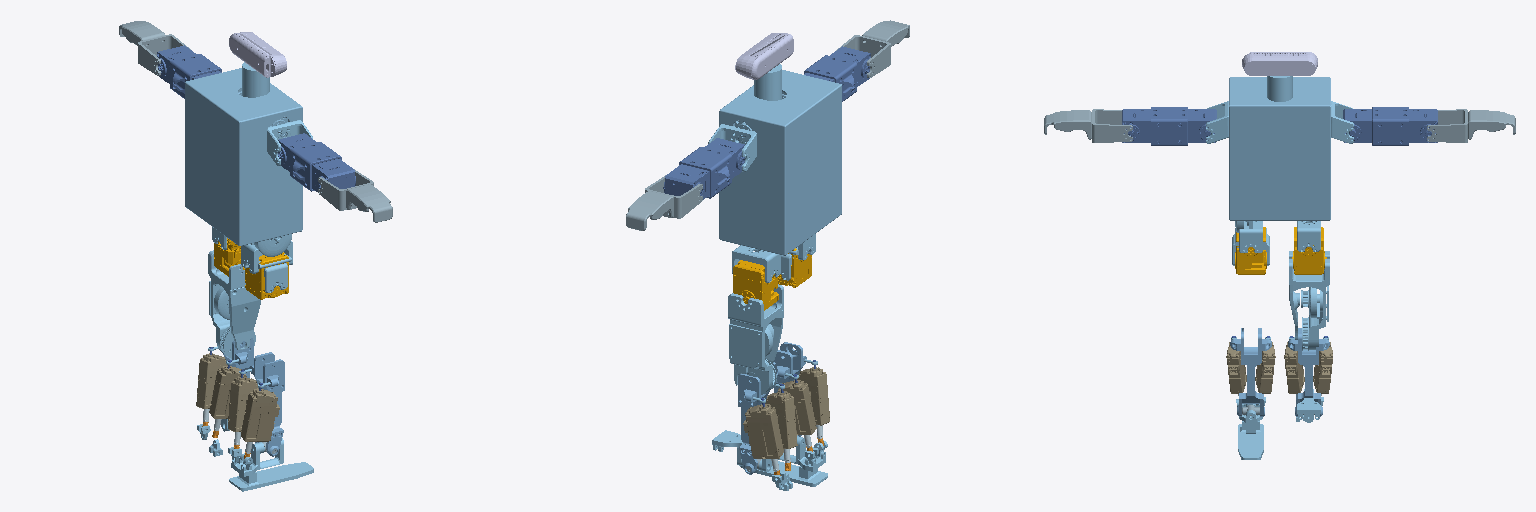
--- Facts derived from the render (not from the file) ---
3 views of the same robot in one strip: view 1: azimuth 30°, elevation 25°; view 2: azimuth 150°, elevation 25°; view 3: azimuth 270°, elevation 25° (orthographic).
Robot: toddlerbot — 45 links, 44 joints (18 revolute, 26 fixed); root link body_link; default pose: all joints at 0.
Visible links, largest first — view 1: body_link, left_hip_pitch_link, sho_roll_link_2, ank_roll_link_2, elb_link_2, sho_roll_link, elb_link, head_link, 12lf_4, right_calf_link, right_hip_pitch_link, 12lf (+8 smaller); view 2: body_link, left_hip_pitch_link, sho_roll_link, elb_link, sho_roll_link_2, elb_link_2, head_link, 12lf, hip_roll_link, ank_roll_link_2, left_calf_link, 12lf_4 (+8 smaller); view 3: body_link, sho_roll_link_2, sho_roll_link, left_hip_pitch_link, elb_link, elb_link_2, head_link, right_calf_link, ank_roll_link_2, left_calf_link, hip_roll_link, hip_roll_link_2 (+9 smaller).
Link boxes in pixels (left/top/right/bottom): body_link: left=185, top=68, right=302, bottom=245; left_hip_pitch_link: left=208, top=250, right=260, bottom=358; sho_roll_link_2: left=278, top=133, right=355, bottom=191; ank_roll_link_2: left=229, top=438, right=313, bottom=491; elb_link_2: left=318, top=169, right=392, bottom=222; sho_roll_link: left=157, top=45, right=221, bottom=98; elb_link: left=119, top=21, right=190, bottom=75; head_link: left=229, top=32, right=286, bottom=77; 12lf_4: left=241, top=388, right=279, bottom=441; right_calf_link: left=250, top=352, right=284, bottom=456; right_hip_pitch_link: left=251, top=234, right=291, bottom=292; 12lf: left=196, top=353, right=227, bottom=408; body_link: left=719, top=70, right=841, bottom=255; left_hip_pitch_link: left=728, top=284, right=783, bottom=394; sho_roll_link: left=663, top=138, right=744, bottom=199; elb_link: left=626, top=175, right=702, bottom=230; sho_roll_link_2: left=804, top=46, right=870, bottom=101; elb_link_2: left=836, top=20, right=909, bottom=77; head_link: left=735, top=33, right=793, bottom=79; 12lf: left=743, top=404, right=783, bottom=458; hip_roll_link: left=733, top=260, right=778, bottom=310; ank_roll_link_2: left=740, top=436, right=827, bottom=486; left_calf_link: left=738, top=374, right=769, bottom=474; 12lf_4: left=797, top=367, right=829, bottom=425; body_link: left=1229, top=77, right=1331, bottom=220; sho_roll_link_2: left=1122, top=107, right=1216, bottom=145; sho_roll_link: left=1343, top=107, right=1437, bottom=145; left_hip_pitch_link: left=1289, top=251, right=1329, bottom=350; elb_link: left=1427, top=109, right=1515, bottom=142; elb_link_2: left=1044, top=109, right=1132, bottom=142; head_link: left=1242, top=52, right=1317, bottom=75; right_calf_link: left=1230, top=328, right=1271, bottom=416; ank_roll_link_2: left=1238, top=404, right=1263, bottom=459; left_calf_link: left=1288, top=328, right=1329, bottom=416; hip_roll_link: left=1292, top=227, right=1326, bottom=274; hip_roll_link_2: left=1235, top=227, right=1266, bottom=274.
Size in the robot's own frame: 0.1039 by 0.554 by 0.5058 metres.
45 mesh visuals loaded from 45 distinct referenced files (45 binary STL).

The robot description file, URDF, robot "toddlerbot":
<robot name="toddlerbot">
  <mujoco>
    <compiler strippath="false" balanceinertia="true" discardvisual="false" />
  </mujoco>
  <link name="body_link">
    <visual>
      <origin xyz="0 0 0" rpy="0 -0 0" />
      <geometry>
        <mesh filename="../assemblies/4R_body/meshes/body_link_visual.stl" />
      </geometry>
      <material name="body_link_material">
        <color rgba="0.59240232552230254193 0.77493742445477598046 0.89675162167089728094 1.0" />
      </material>
    </visual>
    <collision>
      <origin xyz="0 0 0" rpy="0 -0 0" />
      <geometry>
        <mesh filename="collisions/body_link_collision.stl" />
      </geometry>
    </collision>
    <inertial>
      <origin xyz="-0.011392539113329219411 1.8329806415983037757e-07 0.37864501400110933682" rpy="0 0 0" />
      <mass value="1.3010345634555100514" />
      <inertia ixx="0.004762472517127859864" ixy="1.2254736467186099066e-09" ixz="2.5710312085007240265e-05" iyy="0.0036676689183223290004" iyz="7.2555792614915947183e-09" izz="0.0032052577163904517193" />
    </inertial>
  </link>

  <link name="neck_link">
    <visual>
      <origin xyz="0 0 0" rpy="0 -0 0" />
      <geometry>
        <mesh filename="../assemblies/4R_body/meshes/neck_link_visual.stl" />
      </geometry>
      <material name="neck_link_material">
        <color rgba="0.61568627450980395466 0.81176470588235294379 0.92941176470588238168 1.0" />
      </material>
    </visual>
    <collision>
      <origin xyz="0 0 0" rpy="0 -0 0" />
      <geometry>
        <mesh filename="collisions/neck_link_collision.stl" />
      </geometry>
    </collision>
    <inertial>
      <origin xyz="3.067903593042405049e-19 -5.1123361372111250322e-20 -0.020000000000000000416" rpy="0 0 0" />
      <mass value="0.018378317023500286703" />
      <inertia ixx="3.4842226023719301187e-06" ixy="2.6492046803872183431e-38" ixz="-4.2946359314041097936e-38" iyy="3.4842226023719301187e-06" iyz="-3.2653968785718786279e-70" izz="2.06756066514378241e-06" />
    </inertial>
  </link>

  <link name="head_link">
    <visual>
      <origin xyz="0 0 0" rpy="0 -0 0" />
      <geometry>
        <mesh filename="../assemblies/4R_body/meshes/head_link_visual.stl" />
      </geometry>
      <material name="head_link_material">
        <color rgba="0.79607843137254896693 0.82352941176470584317 0.93725490196078442562 1.0" />
      </material>
    </visual>
    <collision>
      <origin xyz="0 0 0" rpy="0 -0 0" />
      <geometry>
        <mesh filename="collisions/head_link_collision.stl" />
      </geometry>
    </collision>
    <inertial>
      <origin xyz="0.0011121374382810690108 0.0023003089133866896736 -0.012472157860955830275" rpy="0 0 0" />
      <mass value="0.075015538754886992856" />
      <inertia ixx="6.8018019107715040579e-06" ixy="6.7244456377383520563e-07" ixz="2.3059386910262827346e-09" iyy="4.5222250439264427752e-05" iyz="-1.2119065455131516884e-08" izz="4.5708811148256761484e-05" />
    </inertial>
  </link>

  <joint name="head" type="fixed">
    <origin xyz="0 -6.505213034913026604e-19 -0.039999999999999980016" rpy="-3.6199375412562401434e-16 -2.4218742848029192401e-16 -5.5511151231257722251e-17" />
    <parent link="neck_link" />
    <child link="head_link" />
    <axis xyz="0 0 1" />
    <limit effort="1" velocity="20" />
    <joint_properties friction="0.0" />
  </joint>

  <joint name="neck" type="fixed">
    <origin xyz="-0.00089999999999998414602 -4.4507968385753129991e-18 0.44079999999999996962" rpy="-3.141592653589793116 8.5053965662326763145e-17 1.57079632679489678" />
    <parent link="body_link" />
    <child link="neck_link" />
    <axis xyz="0 0 1" />
    <limit effort="1" velocity="20" />
    <joint_properties friction="0.0" />
  </joint>

  <joint name="left_hip_yaw" type="revolute">
    <origin xyz="-0.006400000000000070563 0.033999999999999967748 0.28550000000000003153" rpy="-1.0062408617649953783e-14 -1.7373496713084857328e-15 -1.0702550091647256269e-13" />
    <parent link="body_link" />
    <child link="hip_yaw_link" />
    <axis xyz="0 0 1" />
    <limit effort="1" velocity="20" lower="-1.570796326794896558" upper="1.570796326794896558" />
    <joint_properties friction="0.0" />
  </joint>

  <joint name="right_hip_yaw" type="revolute">
    <origin xyz="-0.0064000000000002613826 -0.033999999999999974687 0.28549999999999997602" rpy="-2.4175737836120826254e-16 2.1811947592303793928e-16 -1.3443908046660001512e-14" />
    <parent link="body_link" />
    <child link="hip_yaw_link_2" />
    <axis xyz="0 0 1" />
    <limit effort="1" velocity="20" lower="-1.570796326794896558" upper="1.570796326794896558" />
    <joint_properties friction="0.0" />
  </joint>

  <joint name="left_sho_pitch" type="revolute">
    <origin xyz="-0.00090000000000018190449 0.058000000000000113964 0.42079999999999984084" rpy="-1.570796326794871911 3.5360603334311235812e-14 -3.1415926535897371608" />
    <parent link="body_link" />
    <child link="sho_pitch_link" />
    <axis xyz="0 0 1" />
    <limit effort="1" velocity="20" lower="-1.570796326794896558" upper="1.570796326794896558" />
    <joint_properties friction="0.0" />
  </joint>

  <joint name="right_sho_pitch" type="revolute">
    <origin xyz="-0.00090000000000000062589 -0.057999999999999982125 0.42079999999999995186" rpy="-1.5707963267948972241 1.3877787807856806753e-15 6.3545304591998415249e-17" />
    <parent link="body_link" />
    <child link="sho_pitch_link_2" />
    <axis xyz="0 0 1" />
    <limit effort="1" velocity="20" lower="-1.570796326794896558" upper="1.570796326794896558" />
    <joint_properties friction="0.0" />
  </joint>


  <link name="hip_yaw_link">
    <visual>
      <origin xyz="0 0 0" rpy="0 -0 0" />
      <geometry>
        <mesh filename="../assemblies/left_3R+RH5_leg/meshes/left_hip_yaw_link_visual.stl" />
      </geometry>
      <material name="hip_yaw_link_material">
        <color rgba="0.61568627450980395466 0.81176470588235294379 0.9294117647058824927 1.0" />
      </material>
    </visual>
    <inertial>
      <origin xyz="1.0722510336680159674e-18 -3.2283346677807587375e-19 -0.0098390489054830127663" rpy="0 0 0" />
      <mass value="0.0090258837370979193293" />
      <inertia ixx="1.3230458239086465149e-06" ixy="-3.359224963794823924e-24" ixz="-1.1251788840973432436e-52" iyy="3.8408510960331439664e-06" iyz="2.3044956050358340648e-34" izz="3.8721396285793924761e-06" />
    </inertial>
  </link>

  <link name="hip_roll_link">
    <visual>
      <origin xyz="0 0 0" rpy="0 -0 0" />
      <geometry>
        <mesh filename="../assemblies/left_3R+RH5_leg/meshes/left_hip_roll_link_visual.stl" />
      </geometry>
      <material name="hip_roll_link_material">
        <color rgba="0.95018735644455865064 0.7067892720042843191 0.061612079402596720001 1.0" />
      </material>
    </visual>
    <collision>
      <origin xyz="0 0 0" rpy="0 -0 0" />
      <geometry>
        <mesh filename="collisions/left_hip_roll_link_collision.stl" />
      </geometry>
    </collision>
    <inertial>
      <origin xyz="-0.012000151133961392894 -0.0004958883138495338112 -0.018504019244504732455" rpy="0 0 0" />
      <mass value="0.098012391483528651936" />
      <inertia ixx="2.0221748766306466634e-05" ixy="-4.1552068243118489132e-08" ixz="-4.1225592188160438566e-08" iyy="2.7358099958307196734e-05" iyz="-5.0935731752381026805e-07" izz="2.7358069524723232986e-05" />
    </inertial>
  </link>

  <link name="left_hip_pitch_link">
    <visual>
      <origin xyz="0 0 0" rpy="0 -0 0" />
      <geometry>
        <mesh filename="../assemblies/left_3R+RH5_leg/meshes/left_hip_pitch_link_visual.stl" />
      </geometry>
      <material name="left_hip_pitch_link_material">
        <color rgba="0.61653630588246999267 0.80730204117585702139 0.92176148235188937186 1.0" />
      </material>
    </visual>
    <collision>
      <origin xyz="0 0 0" rpy="0 -0 0" />
      <geometry>
        <mesh filename="collisions/left_hip_pitch_link_collision.stl" />
      </geometry>
    </collision>
    <inertial>
      <origin xyz="-0.00021632240618358212353 0.052986695633820017626 0.014788126099014513998" rpy="0 0 0" />
      <mass value="0.094084588454108844524" />
      <inertia ixx="6.3099190805816188395e-05" ixy="4.2254461504174256037e-07" ixz="-1.5223568275358419485e-07" iyy="2.1754782765193058833e-05" iyz="-1.4708367336520511655e-06" izz="6.2817482611037645619e-05" />
    </inertial>
  </link>

  <link name="left_calf_link">
    <visual>
      <origin xyz="0 0 0" rpy="0 -0 0" />
      <geometry>
        <mesh filename="../assemblies/left_3R+RH5_leg/meshes/left_calf_link_visual.stl" />
      </geometry>
      <material name="left_calf_link_material">
        <color rgba="0.55397243078540503447 0.73161358475427695769 0.87715705664081478066 1.0" />
      </material>
    </visual>
    <collision>
      <origin xyz="0 0 0" rpy="0 -0 0" />
      <geometry>
        <mesh filename="collisions/left_calf_link_collision.stl" />
      </geometry>
    </collision>
    <inertial>
      <origin xyz="-0.0039136163069529794969 -0.043640010796484503264 0.0081849279519870133531" rpy="0 0 0" />
      <mass value="0.016290616864051549878" />
      <inertia ixx="1.5543943584208743725e-05" ixy="-2.1605519114066121883e-07" ixz="7.0470291476150020838e-09" iyy="1.9364407917964761494e-06" iyz="1.9633933099789637219e-08" izz="1.4807197003527088815e-05" />
    </inertial>
  </link>

  <link name="ank_pitch_link">
    <visual>
      <origin xyz="0 0 0" rpy="0 -0 0" />
      <geometry>
        <mesh filename="../assemblies/left_3R+RH5_leg/meshes/left_ank_pitch_link_visual.stl" />
      </geometry>
      <material name="ank_pitch_link_material">
        <color rgba="0.63189161126160264814 0.7266866879354088038 0.78356373393969258601 1.0" />
      </material>
    </visual>
    <inertial>
      <origin xyz="4.0269685077374882913e-08 0.00059528282566739029041 -0.014599922383890481456" rpy="0 0 0" />
      <mass value="0.0042238381753791614387" />
      <inertia ixx="4.3705254067385321152e-07" ixy="1.6834346764733790142e-13" ixz="1.6428822479797586242e-12" iyy="3.9782741364647126382e-07" iyz="2.0919252891793530041e-14" izz="8.8858574534548866036e-08" />
    </inertial>
  </link>

  <link name="ank_roll_link">
    <visual>
      <origin xyz="0 0 0" rpy="0 -0 0" />
      <geometry>
        <mesh filename="../assemblies/left_3R+RH5_leg/meshes/left_ank_roll_link_visual.stl" />
      </geometry>
      <material name="ank_roll_link_material">
        <color rgba="0.61568627450980395466 0.81176470588235294379 0.92941176470588238168 1.0" />
      </material>
    </visual>
    <collision>
      <origin xyz="0 0 0" rpy="0 -0 0" />
      <geometry>
        <mesh filename="collisions/left_ank_roll_link_collision.stl" />
      </geometry>
    </collision>
    <inertial>
      <origin xyz="-6.3661537447933322514e-10 0.027240102316353712736 -0.0056169852551464618043" rpy="0 0 0" />
      <mass value="0.013844478784760248444" />
      <inertia ixx="1.0150902309234937601e-05" ixy="6.860330269947860182e-14" ixz="-3.2605547316532086247e-13" iyy="8.66361166634314672e-06" iyz="-7.8151778926544964308e-07" izz="2.8991570356470419231e-06" />
    </inertial>
  </link>

  <link name="ank_rr_link">
    <visual>
      <origin xyz="0 0 0" rpy="0 -0 0" />
      <geometry>
        <mesh filename="../assemblies/left_3R+RH5_leg/meshes/left_ank_rr_link_visual.stl" />
      </geometry>
      <material name="ank_rr_link_material">
        <color rgba="0.61568627450980395466 0.81176470588235294379 0.92941176470588238168 1.0" />
      </material>
    </visual>
    <inertial>
      <origin xyz="3.4593503690053728679e-05 -0.0062999445222071577544 2.2843393600707675866e-19" rpy="0 0 0" />
      <mass value="0.00044289790445047673732" />
      <inertia ixx="9.089475500483527331e-09" ixy="5.6689994077039792641e-11" ixz="-1.0879024115044971254e-14" iyy="8.3785129146959922129e-09" iyz="1.6391214081112533046e-31" izz="1.3107013728801491474e-08" />
    </inertial>
  </link>

  <link name="12lf_rod_end">
    <visual>
      <origin xyz="0 0 0" rpy="0 -0 0" />
      <geometry>
        <mesh filename="../assemblies/left_3R+RH5_leg/meshes/left_12lf_rod_end_visual.stl" />
      </geometry>
      <material name="12lf_rod_end_material">
        <color rgba="0.92771758928836545177 0.61049283053223013518 0.21847658490585164515 1.0" />
      </material>
    </visual>
    <inertial>
      <origin xyz="-4.4735207312314432896e-11 -0.00384221859382460635 6.4384187209444622633e-06" rpy="0 0 0" />
      <mass value="0.00085420491177815895123" />
      <inertia ixx="1.1840985264406803937e-08" ixy="2.0225978439573764585e-16" ixz="-9.2606419922371643422e-16" iyy="3.3549621576797599008e-09" iyz="7.4535631381818761116e-12" izz="1.2703522254420021284e-08" />
    </inertial>
  </link>

  <joint name="left_ank_R21" type="fixed">
    <origin xyz="0 -0.010000000000000036637 -2.0816681711721685133e-17" rpy="-1.5707963267949025532 -1.4285697747629921839 1.5707963267949025532" />
    <parent link="ank_rr_link" />
    <child link="12lf_rod_end" />
    <axis xyz="0 0 1" />
    <limit effort="1" velocity="20" lower="-1.570796326794896558" upper="1.570796326794896558" />
    <joint_properties friction="0.0" />
  </joint>

  <joint name="left_ank_R11" type="fixed">
    <origin xyz="-0.0099999999999999915345 0.012499999999999872324 -0.033600000000000004863" rpy="1.6323812772036896109e-17 1.4002646486553138019e-17 -0.10116031275705798798" />
    <parent link="ank_roll_link" />
    <child link="ank_rr_link" />
    <axis xyz="0 0 1" />
    <limit effort="1" velocity="20" lower="-1.570796326794896558" upper="1.570796326794896558" />
    <joint_properties friction="0.0" />
  </joint>

  <link name="ank_rr_link_2">
    <visual>
      <origin xyz="0 0 0" rpy="0 -0 0" />
      <geometry>
        <mesh filename="../assemblies/left_3R+RH5_leg/meshes/left_ank_rr_link_2_visual.stl" />
      </geometry>
      <material name="ank_rr_link_2_material">
        <color rgba="0.61568627450980395466 0.81176470588235294379 0.92941176470588238168 1.0" />
      </material>
    </visual>
    <inertial>
      <origin xyz="3.459350369005370835e-05 -0.0062999445222072123982 -6.7104599679001474782e-18" rpy="0 0 0" />
      <mass value="0.00044289790445047673732" />
      <inertia ixx="9.0894755004835306397e-09" ixy="5.6689994077039992974e-11" ixz="-1.087902411504497441e-14" iyy="8.3785129146959889042e-09" iyz="-2.6982978837298398155e-32" izz="1.3107013728801491474e-08" />
    </inertial>
  </link>

  <link name="12lf_rod_end_2">
    <visual>
      <origin xyz="0 0 0" rpy="0 -0 0" />
      <geometry>
        <mesh filename="../assemblies/left_3R+RH5_leg/meshes/left_12lf_rod_end_2_visual.stl" />
      </geometry>
      <material name="12lf_rod_end_2_material">
        <color rgba="0.92771758928836545177 0.61049283053223013518 0.21847658490585164515 1.0" />
      </material>
    </visual>
    <inertial>
      <origin xyz="-4.4735189307638868103e-11 -0.0038422185938245824975 6.4384187209439294795e-06" rpy="0 0 0" />
      <mass value="0.00085420491177815895123" />
      <inertia ixx="1.1840985264406808901e-08" ixy="2.0225977929011866253e-16" ixz="-9.2606419849108415381e-16" iyy="3.3549621576797350854e-09" iyz="7.4535631381823624033e-12" izz="1.2703522254420004741e-08" />
    </inertial>
  </link>

  <joint name="left_ank_R22" type="fixed">
    <origin xyz="-6.9388939039072283776e-18 -0.010000000000000008882 0" rpy="1.570796326794896558 -1.4285463212677487199 -1.5707963267948970021" />
    <parent link="ank_rr_link_2" />
    <child link="12lf_rod_end_2" />
    <axis xyz="0 0 1" />
    <limit effort="1" velocity="20" lower="-1.570796326794896558" upper="1.570796326794896558" />
    <joint_properties friction="0.0" />
  </joint>

  <joint name="left_ank_R12" type="fixed">
    <origin xyz="0.0099999999999999984734 0.012499999999999761302 -0.033599999999999997924" rpy="3.1415926535897824579 9.4861357133311978266e-15 -3.0405529889788134312" />
    <parent link="ank_roll_link" />
    <child link="ank_rr_link_2" />
    <axis xyz="0 0 1" />
    <limit effort="1" velocity="20" lower="-1.570796326794896558" upper="1.570796326794896558" />
    <joint_properties friction="0.0" />
  </joint>

  <joint name="left_ank_roll" type="revolute">
    <origin xyz="2.2759572004815709079e-15 0.0015000000000041896053 -0.014599999999999611552" rpy="-1.570796326795051101 -1.5707963267944144992 0" />
    <parent link="ank_pitch_link" />
    <child link="ank_roll_link" />
    <axis xyz="0 0 1" />
    <limit effort="1" velocity="20" lower="-1.570796326794896558" upper="1.570796326794896558" />
    <joint_properties friction="0.0" />
  </joint>

  <joint name="left_ank_pitch" type="revolute">
    <origin xyz="9.1534583908775112557e-19 -0.10000000000000003331 -0.0061999999999999989148" rpy="3.1415926535897926719 -8.7927079361011792447e-15 -1.5707963267948961139" />
    <parent link="left_calf_link" />
    <child link="ank_pitch_link" />
    <axis xyz="0 0 1" />
    <limit effort="1" velocity="20" lower="-1.570796326794896558" upper="1.570796326794896558" />
    <joint_properties friction="0.0" />
  </joint>

  <link name="ball_joint_container">
    <visual>
      <origin xyz="0 0 0" rpy="0 -0 0" />
      <geometry>
        <mesh filename="../assemblies/left_3R+RH5_leg/meshes/left_ball_joint_container_visual.stl" />
      </geometry>
      <material name="ball_joint_container_material">
        <color rgba="0.61568627450980395466 0.81176470588235294379 0.9294117647058824927 1.0" />
      </material>
    </visual>
    <inertial>
      <origin xyz="-6.4666794741501348019e-18 2.7634224477689354266e-17 -0.0097125341669083414126" rpy="0 0 0" />
      <mass value="4.8037356425330562243e-05" />
      <inertia ixx="7.1865480628741666366e-10" ixy="-3.4743251124436435837e-27" ixz="3.7630329617305141944e-39" iyy="8.475420427718555978e-10" iyz="-3.491409188473297406e-39" izz="1.8625314111651911712e-10" />
    </inertial>
  </link>

  <link name="ball_joint_ball">
    <visual>
      <origin xyz="0 0 0" rpy="0 -0 0" />
      <geometry>
        <mesh filename="../assemblies/left_3R+RH5_leg/meshes/left_ball_joint_ball_visual.stl" />
      </geometry>
      <material name="ball_joint_ball_material">
        <color rgba="0.3291302810242056065 0.44310466418644928188 0.69204871161977121741 1.0" />
      </material>
    </visual>
    <inertial>
      <origin xyz="-1.024304264232596922e-18 -0.0010308669810016205057 7.5361587101412525033e-18" rpy="0 0 0" />
      <mass value="4.4053796295264623832e-05" />
      <inertia ixx="3.128501134969269094e-10" ixy="2.3037156279423982313e-26" ixz="6.7416080735321820408e-26" iyy="6.2569568612796186738e-11" iyz="-1.191934157241071287e-25" izz="3.1285321460377227819e-10" />
    </inertial>
  </link>

  <link name="12lf">
    <visual>
      <origin xyz="0 0 0" rpy="0 -0 0" />
      <geometry>
        <mesh filename="../assemblies/left_3R+RH5_leg/meshes/left_12lf_visual.stl" />
      </geometry>
      <material name="12lf_material">
        <color rgba="0.62004392096503557763 0.58836684612040224263 0.49897069027350271497 1.0" />
      </material>
    </visual>
    <inertial>
      <origin xyz="0.004908420722696336079 -0.00013802440006551879069 -0.029947003575847935125" rpy="0 0 0" />
      <mass value="0.044782197690790462308" />
      <inertia ixx="1.5260128420490007696e-05" ixy="2.2955774098793662633e-08" ixz="-8.1364204856265883026e-08" iyy="1.8188469777210560066e-05" iyz="-5.554224117070019674e-08" izz="5.1496273889337949923e-06" />
    </inertial>
  </link>

  <link name="12lf_rod">
    <visual>
      <origin xyz="0 0 0" rpy="0 -0 0" />
      <geometry>
        <mesh filename="../assemblies/left_3R+RH5_leg/meshes/left_12lf_rod_visual.stl" />
      </geometry>
      <material name="12lf_rod_material">
        <color rgba="0.80250260812861884396 0.89340612183512713163 0.94491811293548189088 1.0" />
      </material>
    </visual>
    <inertial>
      <origin xyz="-6.3222084044054348599e-07 4.6933255325162329098e-07 -0.012893387334327627292" rpy="0 0 0" />
      <mass value="0.0025088292483592144512" />
      <inertia ixx="2.6944521128627840825e-07" ixy="7.1389570157677108448e-15" ixz="1.356224313567482514e-11" iyy="2.6944520001684385821e-07" iyz="-1.0089988427266224264e-11" izz="1.7809843599861028799e-08" />
    </inertial>
  </link>

  <joint name="left_ank_act1" type="fixed">
    <origin xyz="2.2722093543023347273e-06 9.5756735873919751612e-16 -0.072660031604096092517" rpy="-3.1415926535896594451 8.5062006308179150635e-14 -2.2021168238262847083" />
    <parent link="12lf" />
    <child link="12lf_rod" />
    <axis xyz="0 0 1" />
    <limit effort="1" velocity="20" lower="0" upper="0.040000000000000000833" />
    <joint_properties friction="0.0" />
  </joint>

  <joint name="left_ank_B31" type="fixed">
    <origin xyz="1.7347234759768070944e-18 -0.0064387505004004641496 1.3877787807814456755e-17" rpy="-1.57079632679489678 0.16913440034102092402 4.5559338426713504067e-15" />
    <parent link="ball_joint_ball" />
    <child link="12lf" />
    <axis xyz="0 0 1" />
    <limit effort="1" velocity="20" lower="-0.785398163397448279" upper="0.785398163397448279" />
    <joint_properties friction="0.0" />
  </joint>

  <joint name="left_ank_B21" type="fixed">
    <origin xyz="-6.9388939039072283776e-18 2.7755575615628913511e-17 -0.011499999999999999806" rpy="1.570796326794896558 -1.4285697747625467624 1.5707963267948807928" />
    <parent link="ball_joint_container" />
    <child link="ball_joint_ball" />
    <axis xyz="0 0 1" />
    <limit effort="1" velocity="20" lower="-0.785398163397448279" upper="0.785398163397448279" />
    <joint_properties friction="0.0" />
  </joint>

  <joint name="left_ank_B11" type="fixed">
    <origin xyz="0.0079999999999999880235 -0.015000000000000041078 0.028300000000000005707" rpy="-1.570796326794896558 1.469636014037934757 1.5707963267948754638" />
    <parent link="left_calf_link" />
    <child link="ball_joint_container" />
    <axis xyz="0 0 1" />
    <limit effort="1" velocity="20" lower="-0.785398163397448279" upper="0.785398163397448279" />
    <joint_properties friction="0.0" />
  </joint>

  <link name="ball_joint_container_2">
    <visual>
      <origin xyz="0 0 0" rpy="0 -0 0" />
      <geometry>
        <mesh filename="../assemblies/left_3R+RH5_leg/meshes/left_ball_joint_container_2_visual.stl" />
      </geometry>
      <material name="ball_joint_container_2_material">
        <color rgba="0.61568627450980395466 0.81176470588235294379 0.9294117647058824927 1.0" />
      </material>
    </visual>
    <inertial>
      <origin xyz="4.7221442975709347941e-19 -1.213511379395615796e-19 -0.0097125341669083431473" rpy="0 0 0" />
      <mass value="4.8037356425330562243e-05" />
      <inertia ixx="7.1865480628741666366e-10" ixy="5.8900531446197729655e-29" ixz="8.3848741101523981788e-39" iyy="8.475420427718555978e-10" iyz="-8.9837792996627276308e-39" izz="1.8625314111651911712e-10" />
    </inertial>
  </link>

  <link name="ball_joint_ball_2">
    <visual>
      <origin xyz="0 0 0" rpy="0 -0 0" />
      <geometry>
        <mesh filename="../assemblies/left_3R+RH5_leg/meshes/left_ball_joint_ball_2_visual.stl" />
      </geometry>
      <material name="ball_joint_ball_2_material">
        <color rgba="0.3291302810242056065 0.44310466418644928188 0.69204871161977121741 1.0" />
      </material>
    </visual>
    <inertial>
      <origin xyz="9.9385112779056612218e-19 -0.0010308669810016705959 1.5569977136113586989e-18" rpy="0 0 0" />
      <mass value="4.4053796295264623832e-05" />
      <inertia ixx="3.1285011349692577203e-10" ixy="-3.4540783359364810345e-25" ixz="2.9439514602620625497e-27" iyy="6.2569568612796910521e-11" iyz="-2.0455197868117900813e-25" izz="3.1285321460377165781e-10" />
    </inertial>
  </link>

  <link name="12lf_2">
    <visual>
      <origin xyz="0 0 0" rpy="0 -0 0" />
      <geometry>
        <mesh filename="../assemblies/left_3R+RH5_leg/meshes/left_12lf_2_visual.stl" />
      </geometry>
      <material name="12lf_2_material">
        <color rgba="0.62004392096503546661 0.58836684612040224263 0.49897069027350271497 1.0" />
      </material>
    </visual>
    <inertial>
      <origin xyz="0.0049084207226895663206 -0.00013802440006755126319 -0.029947003575846946333" rpy="0 0 0" />
      <mass value="0.044782197690790462308" />
      <inertia ixx="1.5260128420489414773e-05" ixy="2.2955774098679071649e-08" ixz="-8.136420485908655568e-08" iyy="1.8188469777211379994e-05" iyz="-5.5542241171766882536e-08" izz="5.1496273889352578182e-06" />
    </inertial>
  </link>

  <link name="12lf_rod_2">
    <visual>
      <origin xyz="0 0 0" rpy="0 -0 0" />
      <geometry>
        <mesh filename="../assemblies/left_3R+RH5_leg/meshes/left_12lf_rod_2_visual.stl" />
      </geometry>
      <material name="12lf_rod_2_material">
        <color rgba="0.80250260812861884396 0.89340612183512713163 0.94491811293548189088 1.0" />
      </material>
    </visual>
    <inertial>
      <origin xyz="-6.3222083681712097906e-07 4.6933255272327711983e-07 -0.012893387334328714963" rpy="0 0 0" />
      <mass value="0.0025088292483592144512" />
      <inertia ixx="2.6944521128621816303e-07" ixy="7.1389570394404216016e-15" ixz="1.3562243029608591047e-11" iyy="2.6944520001678361299e-07" iyz="-1.0089988411777272141e-11" izz="1.780984359986099902e-08" />
    </inertial>
  </link>

  <joint name="left_ank_act2" type="fixed">
    <origin xyz="2.2722093491484712802e-06 -6.5988881026157741871e-15 -0.07266003047881974819" rpy="-3.1415926535895000171 5.9280886354915822063e-14 -2.2021168238262815997" />
    <parent link="12lf_2" />
    <child link="12lf_rod_2" />
    <axis xyz="0 0 1" />
    <limit effort="1" velocity="20" lower="0" upper="0.040000000000000000833" />
    <joint_properties friction="0.0" />
  </joint>

  <joint name="left_ank_B32" type="fixed">
    <origin xyz="8.6736173798840354721e-18 -0.0064387505004005751719 6.9388939039072283776e-18" rpy="-1.5707963267948972241 -0.17993145005787733459 6.7429791500468328215e-16" />
    <parent link="ball_joint_ball_2" />
    <child link="12lf_2" />
    <axis xyz="0 0 1" />
    <limit effort="1" velocity="20" lower="-0.785398163397448279" upper="0.785398163397448279" />
    <joint_properties friction="0.0" />
  </joint>

  <joint name="left_ank_B22" type="fixed">
    <origin xyz="-3.4694469519536141888e-17 -2.7755575615628913511e-16 -0.01149999999999988011" rpy="1.570796326794896558 -1.4285463212680655776 -1.5707963267948985564" />
    <parent link="ball_joint_container_2" />
    <child link="ball_joint_ball_2" />
    <axis xyz="0 0 1" />
    <limit effort="1" velocity="20" lower="-0.785398163397448279" upper="0.785398163397448279" />
    <joint_properties friction="0.0" />
  </joint>

  <joint name="left_ank_B12" type="fixed">
    <origin xyz="0.0080000000000001268013 -0.014999999999999791278 -0.011499999999999987663" rpy="-1.570796326794896558 -1.4697566621822597543 1.5707963267949038855" />
    <parent link="left_calf_link" />
    <child link="ball_joint_container_2" />
    <axis xyz="0 0 1" />
    <limit effort="1" velocity="20" lower="-0.785398163397448279" upper="0.785398163397448279" />
    <joint_properties friction="0.0" />
  </joint>

  <joint name="left_knee" type="revolute">
    <origin xyz="-6.5356617016366259295e-15 0.095999999999999696687 0.027400000000000260952" rpy="-3.1415926535897842342 1.6653345304510526278e-16 2.2176671495670943584e-16" />
    <parent link="left_hip_pitch_link" />
    <child link="left_calf_link" />
    <axis xyz="0 0 1" />
    <limit effort="1" velocity="20" lower="-1.570796326794896558" upper="2.2689280275926284602" />
    <joint_properties friction="0.0" />
  </joint>

  <joint name="left_hip_pitch" type="revolute">
    <origin xyz="-0.024000000716153851998 -0.019000000152441028078 -0.019000000152448098811" rpy="-1.570796326794478226 1.5707963267948015229 0" />
    <parent link="hip_roll_link" />
    <child link="left_hip_pitch_link" />
    <axis xyz="0 0 1" />
    <limit effort="1" velocity="20" lower="-1.570796326794896558" upper="1.570796326794896558" />
    <joint_properties friction="0.0" />
  </joint>

  <joint name="left_hip_roll" type="revolute">
    <origin xyz="0.019000000000000284023 -8.3919669538584410836e-16 -0.026000000000000463712" rpy="-3.1415926535897922278 -1.5707963267945732611 0" />
    <parent link="hip_yaw_link" />
    <child link="hip_roll_link" />
    <axis xyz="0 0 1" />
    <limit effort="1" velocity="20" lower="-1.570796326794896558" upper="1.570796326794896558" />
    <joint_properties friction="0.0" />
  </joint>


  <link name="hip_yaw_link_2">
    <visual>
      <origin xyz="0 0 0" rpy="0 -0 0" />
      <geometry>
        <mesh filename="../assemblies/right_3R+RH5_leg/meshes/right_hip_yaw_link_visual.stl" />
      </geometry>
      <material name="hip_yaw_link_material">
        <color rgba="0.61568627450980395466 0.81176470588235294379 0.9294117647058824927 1.0" />
      </material>
    </visual>
    <inertial>
      <origin xyz="1.0722510336647112642e-18 -3.2283346675930388273e-19 -0.0098390489054829086829" rpy="0 0 0" />
      <mass value="0.0090258837370979193293" />
      <inertia ixx="1.3230458239085876461e-06" ixy="-6.4778545919079883866e-49" ixz="1.7322911775161992475e-33" iyy="3.8408510960330558749e-06" iyz="-1.4482241779965787293e-32" izz="3.8721396285793094669e-06" />
    </inertial>
  </link>

  <link name="hip_roll_link_2">
    <visual>
      <origin xyz="0 0 0" rpy="0 -0 0" />
      <geometry>
        <mesh filename="../assemblies/right_3R+RH5_leg/meshes/right_hip_roll_link_visual.stl" />
      </geometry>
      <material name="hip_roll_link_material">
        <color rgba="0.95018735644455842859 0.7067892720042843191 0.061612079402596720001 1.0" />
      </material>
    </visual>
    <collision>
      <origin xyz="0 0 0" rpy="0 -0 0" />
      <geometry>
        <mesh filename="collisions/right_hip_roll_link_collision.stl" />
      </geometry>
    </collision>
    <inertial>
      <origin xyz="-0.012000151133961672184 -0.00049588831385562670215 -0.018504019244505481856" rpy="0 0 0" />
      <mass value="0.098012391483528665814" />
      <inertia ixx="2.0221748766307256069e-05" ixy="-4.1552068245159084147e-08" ixz="-4.1225592187111070623e-08" iyy="2.7358099958307362752e-05" iyz="-5.09357317523940817e-07" izz="2.7358069524724035974e-05" />
    </inertial>
  </link>

  <link name="right_hip_pitch_link">
    <visual>
      <origin xyz="0 0 0" rpy="0 -0 0" />
      <geometry>
        <mesh filename="../assemblies/right_3R+RH5_leg/meshes/right_hip_pitch_link_visual.stl" />
      </geometry>
      <material name="right_hip_pitch_link_material">
        <color rgba="0.6165363060683557439 0.80730204019995621678 0.92176148067891638949 1.0" />
      </material>
    </visual>
    <collision>
      <origin xyz="0 0 0" rpy="0 -0 0" />
      <geometry>
        <mesh filename="collisions/right_hip_pitch_link_collision.stl" />
      </geometry>
    </collision>
    <inertial>
      <origin xyz="-1.4741268609436127687e-05 0.052986690876698258612 0.014788127171305258042" rpy="0 0 0" />
      <mass value="0.094084567879581942895" />
      <inertia ixx="6.3099182122443740121e-05" ixy="-2.2045192591945073076e-07" ixz="-1.2728889936300975704e-08" iyy="2.1759163818498408386e-05" iyz="-1.4708395298813211513e-06" izz="6.2821853547821466125e-05" />
    </inertial>
  </link>

  <link name="right_calf_link">
    <visual>
      <origin xyz="0 0 0" rpy="0 -0 0" />
      <geometry>
        <mesh filename="../assemblies/right_3R+RH5_leg/meshes/right_calf_link_visual.stl" />
      </geometry>
      <material name="right_calf_link_material">
        <color rgba="0.5539724769354649192 0.73161364570947462482 0.87715709724734280961 1.0" />
      </material>
    </visual>
    <collision>
      <origin xyz="0 0 0" rpy="0 -0 0" />
      <geometry>
        <mesh filename="collisions/right_calf_link_collision.stl" />
      </geometry>
    </collision>
    <inertial>
      <origin xyz="-0.0039136048281023325807 0.043639997035758611166 0.00818489966080624895" rpy="0 0 0" />
      <mass value="0.016290630569901022595" />
      <inertia ixx="1.5543964735761963141e-05" ixy="2.1605989306077929852e-07" ixz="7.0519548983021387359e-09" iyy="1.9364566813417006028e-06" iyz="-1.9645570089566234559e-08" izz="1.4807205615850117011e-05" />
    </inertial>
  </link>

  <link name="ank_pitch_link_2">
    <visual>
      <origin xyz="0 0 0" rpy="0 -0 0" />
      <geometry>
        <mesh filename="../assemblies/right_3R+RH5_leg/meshes/right_ank_pitch_link_visual.stl" />
      </geometry>
      <material name="ank_pitch_link_material">
        <color rgba="0.63189161126160275916 0.7266866879354088038 0.78356373393969258601 1.0" />
      </material>
    </visual>
    <inertial>
      <origin xyz="4.0269688365285932134e-08 0.00059528282566558552748 -0.014599922383890160532" rpy="0 0 0" />
      <mass value="0.0042238381753791614387" />
      <inertia ixx="4.3705254067389275737e-07" ixy="1.6834346808786580074e-13" ixz="1.6428822803056156771e-12" iyy="3.9782741364654728503e-07" iyz="2.0919225292137162821e-14" izz="8.8858574534512311271e-08" />
    </inertial>
  </link>

  <link name="ank_roll_link_2">
    <visual>
      <origin xyz="0 0 0" rpy="0 -0 0" />
      <geometry>
        <mesh filename="../assemblies/right_3R+RH5_leg/meshes/right_ank_roll_link_visual.stl" />
      </geometry>
      <material name="ank_roll_link_material">
        <color rgba="0.61568627450980395466 0.81176470588235294379 0.92941176470588238168 1.0" />
      </material>
    </visual>
    <collision>
      <origin xyz="0 0 0" rpy="0 -0 0" />
      <geometry>
        <mesh filename="collisions/right_ank_roll_link_collision.stl" />
      </geometry>
    </collision>
    <inertial>
      <origin xyz="-6.3661537447933332854e-10 0.027240102316353740491 -0.005616985255146463539" rpy="0 0 0" />
      <mass value="0.013844478784760248444" />
      <inertia ixx="1.0150902309234937601e-05" ixy="6.8603302699478627063e-14" ixz="-3.2605547316532086247e-13" iyy="8.663611666343145026e-06" iyz="-7.8151778926544943132e-07" izz="2.8991570356470419231e-06" />
    </inertial>
  </link>

  <link name="ank_rr_link_3">
    <visual>
      <origin xyz="0 0 0" rpy="0 -0 0" />
      <geometry>
        <mesh filename="../assemblies/right_3R+RH5_leg/meshes/right_ank_rr_link_visual.stl" />
      </geometry>
      <material name="ank_rr_link_material">
        <color rgba="0.61568627450980395466 0.81176470588235294379 0.92941176470588238168 1.0" />
      </material>
    </visual>
    <inertial>
      <origin xyz="3.4593503690053721902e-05 -0.0062999445222072123982 2.2843393600707911792e-19" rpy="0 0 0" />
      <mass value="0.00044289790445047673732" />
      <inertia ixx="9.0894755004835240223e-09" ixy="5.6689994077039824953e-11" ixz="-1.0879024115044969676e-14" iyy="8.3785129146959889042e-09" iyz="1.0964401565814202592e-31" izz="1.3107013728801491474e-08" />
    </inertial>
  </link>

  <link name="12lf_rod_end_3">
    <visual>
      <origin xyz="0 0 0" rpy="0 -0 0" />
      <geometry>
        <mesh filename="../assemblies/right_3R+RH5_leg/meshes/right_12lf_rod_end_visual.stl" />
      </geometry>
      <material name="12lf_rod_end_material">
        <color rgba="0.92771758928836545177 0.61049283053223013518 0.21847658490585164515 1.0" />
      </material>
    </visual>
    <inertial>
      <origin xyz="-4.47351951498684709e-11 -0.0038422185938245742576 6.4384187209394588396e-06" rpy="0 0 0" />
      <mass value="0.00085420491177815895123" />
      <inertia ixx="1.1840985264406848605e-08" ixy="2.0225976201386113951e-16" ixz="-9.2606418919512239757e-16" iyy="3.354962157679728468e-09" iyz="7.4535631381922901862e-12" izz="1.2703522254419973308e-08" />
    </inertial>
  </link>

  <joint name="right_ank_R21" type="fixed">
    <origin xyz="1.3877787807814456755e-17 -0.010000000000000008882 1.3877787807814456755e-17" rpy="-1.570796326794896558 -1.4285697747627732479 1.5707963267950297848" />
    <parent link="ank_rr_link_3" />
    <child link="12lf_rod_end_3" />
    <axis xyz="0 0 1" />
    <limit effort="1" velocity="20" lower="-1.570796326794896558" upper="1.570796326794896558" />
    <joint_properties friction="0.0" />
  </joint>

  <joint name="right_ank_R11" type="fixed">
    <origin xyz="-0.0099999999999999707179 0.012500000000000066613 -0.033600000000000039557" rpy="2.8867109174417181635e-14 -3.1302655555270997905e-14 -0.10116031275652562216" />
    <parent link="ank_roll_link_2" />
    <child link="ank_rr_link_3" />
    <axis xyz="0 0 1" />
    <limit effort="1" velocity="20" lower="-1.570796326794896558" upper="1.570796326794896558" />
    <joint_properties friction="0.0" />
  </joint>

  <link name="ank_rr_link_4">
    <visual>
      <origin xyz="0 0 0" rpy="0 -0 0" />
      <geometry>
        <mesh filename="../assemblies/right_3R+RH5_leg/meshes/right_ank_rr_link_2_visual.stl" />
      </geometry>
      <material name="ank_rr_link_2_material">
        <color rgba="0.61568627450980395466 0.81176470588235294379 0.92941176470588238168 1.0" />
      </material>
    </visual>
    <inertial>
      <origin xyz="3.4593503690060701454e-05 -0.0062999445222072687767 2.2843393600716385884e-19" rpy="0 0 0" />
      <mass value="0.00044289790445047673732" />
      <inertia ixx="9.0894755004835240223e-09" ixy="5.6689994077039857264e-11" ixz="-1.0879024115044969676e-14" iyy="8.3785129146959922129e-09" iyz="8.7823246935403474545e-33" izz="1.3107013728801491474e-08" />
    </inertial>
  </link>

  <link name="12lf_rod_end_4">
    <visual>
      <origin xyz="0 0 0" rpy="0 -0 0" />
      <geometry>
        <mesh filename="../assemblies/right_3R+RH5_leg/meshes/right_12lf_rod_end_2_visual.stl" />
      </geometry>
      <material name="12lf_rod_end_2_material">
        <color rgba="0.92771758928836545177 0.6104928305322302462 0.21847658490585164515 1.0" />
      </material>
    </visual>
    <inertial>
      <origin xyz="-4.4735205116598910544e-11 -0.0038422185938245803291 6.4384187209450399397e-06" rpy="0 0 0" />
      <mass value="0.00085420491177815895123" />
      <inertia ixx="1.1840985264406812209e-08" ixy="2.022597820117990535e-16" ixz="-9.2606419932579897966e-16" iyy="3.3549621576797264e-09" iyz="7.4535631381816079241e-12" izz="1.2703522254420024593e-08" />
    </inertial>
  </link>

  <joint name="right_ank_R22" type="fixed">
    <origin xyz="-1.3877787807814456755e-17 -0.010000000000000008882 2.7755575615628913511e-17" rpy="1.570796326794921649 -1.4285463212679851974 -1.5707963267949038855" />
    <parent link="ank_rr_link_4" />
    <child link="12lf_rod_end_4" />
    <axis xyz="0 0 1" />
    <limit effort="1" velocity="20" lower="-1.570796326794896558" upper="1.570796326794896558" />
    <joint_properties friction="0.0" />
  </joint>

  <joint name="right_ank_R12" type="fixed">
    <origin xyz="0.010000000000000003678 0.012500000000000011102 -0.033600000000000004863" rpy="-3.1415926535897917837 -1.5904604637588844751e-15 -3.0405529889774984831" />
    <parent link="ank_roll_link_2" />
    <child link="ank_rr_link_4" />
    <axis xyz="0 0 1" />
    <limit effort="1" velocity="20" lower="-1.570796326794896558" upper="1.570796326794896558" />
    <joint_properties friction="0.0" />
  </joint>

  <joint name="right_ank_roll" type="revolute">
    <origin xyz="1.1018963519404678664e-14 0.0015000000000008478773 -0.014599999999995005862" rpy="-1.5707963267950115771 1.5707963267945974639 0" />
    <parent link="ank_pitch_link_2" />
    <child link="ank_roll_link_2" />
    <axis xyz="0 0 1" />
    <limit effort="1" velocity="20" lower="-1.570796326794896558" upper="1.570796326794896558" />
    <joint_properties friction="0.0" />
  </joint>

  <joint name="right_ank_pitch" type="revolute">
    <origin xyz="-7.3090839045994630973e-18 0.099999999999999839018 -0.006199999999999821973" rpy="-3.1415926535897926719 3.8309199562601306947e-15 -1.57079632679489678" />
    <parent link="right_calf_link" />
    <child link="ank_pitch_link_2" />
    <axis xyz="0 0 1" />
    <limit effort="1" velocity="20" lower="-1.570796326794896558" upper="1.570796326794896558" />
    <joint_properties friction="0.0" />
  </joint>

  <link name="ball_joint_container_3">
    <visual>
      <origin xyz="0 0 0" rpy="0 -0 0" />
      <geometry>
        <mesh filename="../assemblies/right_3R+RH5_leg/meshes/right_ball_joint_container_visual.stl" />
      </geometry>
      <material name="ball_joint_container_material">
        <color rgba="0.61568627450980395466 0.81176470588235294379 0.9294117647058824927 1.0" />
      </material>
    </visual>
    <inertial>
      <origin xyz="4.7221442975712073132e-19 -1.2135113793955999071e-19 -0.0097125341669083396778" rpy="0 0 0" />
      <mass value="4.8037356425330562243e-05" />
      <inertia ixx="7.1865480628741666366e-10" ixy="-4.6616368691501084609e-27" ixz="-1.1843682288965544046e-38" iyy="8.475420427718555978e-10" iyz="-9.2441920556660340881e-41" izz="1.8625314111651911712e-10" />
    </inertial>
  </link>

  <link name="ball_joint_ball_3">
    <visual>
      <origin xyz="0 0 0" rpy="0 -0 0" />
      <geometry>
        <mesh filename="../assemblies/right_3R+RH5_leg/meshes/right_ball_joint_ball_visual.stl" />
      </geometry>
      <material name="ball_joint_ball_material">
        <color rgba="0.3291302810242056065 0.44310466418644928188 0.69204871161977121741 1.0" />
      </material>
    </visual>
    <inertial>
      <origin xyz="-9.2723657815922728581e-19 -0.001030866981001647394 -9.5897189779356104259e-18" rpy="0 0 0" />
      <mass value="4.4053796295264623832e-05" />
      <inertia ixx="3.1285011349692509995e-10" ixy="-1.7111341847049916096e-25" ixz="-4.0195729449714431366e-26" iyy="6.2569568612796160888e-11" iyz="2.887154056259992083e-25" izz="3.1285321460375878481e-10" />
    </inertial>
  </link>

  <link name="12lf_3">
    <visual>
      <origin xyz="0 0 0" rpy="0 -0 0" />
      <geometry>
        <mesh filename="../assemblies/right_3R+RH5_leg/meshes/right_12lf_visual.stl" />
      </geometry>
      <material name="12lf_material">
        <color rgba="0.62004392096503557763 0.58836684612040235365 0.49897069027350277048 1.0" />
      </material>
    </visual>
    <inertial>
      <origin xyz="0.0049084207226888108486 -0.00013802440006487488302 -0.029947003575832954053" rpy="0 0 0" />
      <mass value="0.044782197690790462308" />
      <inertia ixx="1.5260128420478603244e-05" ixy="2.2955774098252478063e-08" ixz="-8.1364204859702758914e-08" iyy="1.8188469777197004151e-05" iyz="-5.5542241170340108476e-08" izz="5.1496273889316071062e-06" />
    </inertial>
  </link>

  <link name="12lf_rod_3">
    <visual>
      <origin xyz="0 0 0" rpy="0 -0 0" />
      <geometry>
        <mesh filename="../assemblies/right_3R+RH5_leg/meshes/right_12lf_rod_visual.stl" />
      </geometry>
      <material name="12lf_rod_material">
        <color rgba="0.80250260812861884396 0.89340612183512713163 0.94491811293548189088 1.0" />
      </material>
    </visual>
    <inertial>
      <origin xyz="-6.322208404493695693e-07 4.693325515433133728e-07 -0.012893387334330659588" rpy="0 0 0" />
      <mass value="0.0025088292483592144512" />
      <inertia ixx="2.6944521128611043103e-07" ixy="7.1389570398975775403e-15" ixz="1.3562243134968357967e-11" iyy="2.6944520001667598687e-07" iyz="-1.0089988379318255771e-11" izz="1.7809843599861002329e-08" />
    </inertial>
  </link>

  <joint name="right_ank_act1" type="fixed">
    <origin xyz="2.2722093427421374834e-06 1.6375789613221058971e-15 -0.072660031604109970305" rpy="-3.1415926535897806815 7.845419351877858644e-15 -2.2021168238260604433" />
    <parent link="12lf_3" />
    <child link="12lf_rod_3" />
    <axis xyz="0 0 1" />
    <limit effort="1" velocity="20" lower="0" upper="0.040000000000000000833" />
    <joint_properties friction="0.0" />
  </joint>

  <joint name="right_ank_B31" type="fixed">
    <origin xyz="-6.0715321659188248304e-18 -0.006438750500400436394 -1.3877787807814456755e-17" rpy="-1.5707963267948954478 0.16913440034160504011 5.0191724325132069355e-15" />
    <parent link="ball_joint_ball_3" />
    <child link="12lf_3" />
    <axis xyz="0 0 1" />
    <limit effort="1" velocity="20" lower="-0.785398163397448279" upper="0.785398163397448279" />
    <joint_properties friction="0.0" />
  </joint>

  <joint name="right_ank_B21" type="fixed">
    <origin xyz="0 5.5511151231257827021e-17 -0.011499999999999998071" rpy="1.570796326794896558 -1.4285697747625634157 1.5707963267948530373" />
    <parent link="ball_joint_container_3" />
    <child link="ball_joint_ball_3" />
    <axis xyz="0 0 1" />
    <limit effort="1" velocity="20" lower="-0.785398163397448279" upper="0.785398163397448279" />
    <joint_properties friction="0.0" />
  </joint>

  <joint name="right_ank_B11" type="fixed">
    <origin xyz="0.0079999999999999689415 0.015000000000000124345 -0.011500000000000058786" rpy="1.5707963267948932273 -1.4696360140379622905 -1.5707963267948383823" />
    <parent link="right_calf_link" />
    <child link="ball_joint_container_3" />
    <axis xyz="0 0 1" />
    <limit effort="1" velocity="20" lower="-0.785398163397448279" upper="0.785398163397448279" />
    <joint_properties friction="0.0" />
  </joint>

  <link name="ball_joint_container_4">
    <visual>
      <origin xyz="0 0 0" rpy="0 -0 0" />
      <geometry>
        <mesh filename="../assemblies/right_3R+RH5_leg/meshes/right_ball_joint_container_2_visual.stl" />
      </geometry>
      <material name="ball_joint_container_2_material">
        <color rgba="0.61568627450980395466 0.81176470588235294379 0.9294117647058824927 1.0" />
      </material>
    </visual>
    <inertial>
      <origin xyz="7.411108333664368946e-18 -1.2135113793956324072e-19 -0.0097125341669083414126" rpy="0 0 0" />
      <mass value="4.8037356425330562243e-05" />
      <inertia ixx="7.1865480628741666366e-10" ixy="1.5305926664110400689e-26" ixz="-2.1154847519822869587e-38" iyy="8.475420427718555978e-10" iyz="8.3623681091656398065e-40" izz="1.8625314111651911712e-10" />
    </inertial>
  </link>

  <link name="ball_joint_ball_4">
    <visual>
      <origin xyz="0 0 0" rpy="0 -0 0" />
      <geometry>
        <mesh filename="../assemblies/right_3R+RH5_leg/meshes/right_ball_joint_ball_2_visual.stl" />
      </geometry>
      <material name="ball_joint_ball_2_material">
        <color rgba="0.3291302810242056065 0.44310466418644928188 0.69204871161977121741 1.0" />
      </material>
    </visual>
    <inertial>
      <origin xyz="-1.0444401871169769954e-17 -0.0010308669810016666928 -9.0457845496231557146e-18" rpy="0 0 0" />
      <mass value="4.4053796295264623832e-05" />
      <inertia ixx="3.1285011349692654751e-10" ixy="-1.3889939894657838189e-25" ixz="-8.9256007389473247546e-26" iyy="6.2569568612796328909e-11" iyz="4.0147766172360748991e-25" izz="3.1285321460377295028e-10" />
    </inertial>
  </link>

  <link name="12lf_4">
    <visual>
      <origin xyz="0 0 0" rpy="0 -0 0" />
      <geometry>
        <mesh filename="../assemblies/right_3R+RH5_leg/meshes/right_12lf_2_visual.stl" />
      </geometry>
      <material name="12lf_2_material">
        <color rgba="0.62004392096503546661 0.5883668461204021316 0.49897069027350277048 1.0" />
      </material>
    </visual>
    <inertial>
      <origin xyz="0.0049084207226871160237 -0.00013802440006710194271 -0.029947003575831306066" rpy="0 0 0" />
      <mass value="0.044782197690790476186" />
      <inertia ixx="1.5260128420477444503e-05" ixy="2.2955774098555209624e-08" ixz="-8.1364204860458179954e-08" iyy="1.8188469777194019207e-05" iyz="-5.5542241171322177004e-08" izz="5.1496273889297512571e-06" />
    </inertial>
  </link>

  <link name="12lf_rod_4">
    <visual>
      <origin xyz="0 0 0" rpy="0 -0 0" />
      <geometry>
        <mesh filename="../assemblies/right_3R+RH5_leg/meshes/right_12lf_rod_2_visual.stl" />
      </geometry>
      <material name="12lf_rod_2_material">
        <color rgba="0.80250260812861884396 0.89340612183512713163 0.94491811293548189088 1.0" />
      </material>
    </visual>
    <inertial>
      <origin xyz="-6.3222084132940662595e-07 4.6933255080423075126e-07 -0.012893387334332477578" rpy="0 0 0" />
      <mass value="0.0025088292483592144512" />
      <inertia ixx="2.694452112860109576e-07" ixy="7.1389570133572895509e-15" ixz="1.3562243158146537111e-11" iyy="2.6944520001657651344e-07" iyz="-1.0089988358226552481e-11" izz="1.7809843599861032107e-08" />
    </inertial>
  </link>

  <joint name="right_ank_act2" type="fixed">
    <origin xyz="2.2722093418418159994e-06 -2.3939183968479937903e-15 -0.072660030478818443678" rpy="-3.1415926535897926719 -5.822843740105227622e-15 -2.202116823826253178" />
    <parent link="12lf_4" />
    <child link="12lf_rod_4" />
    <axis xyz="0 0 1" />
    <limit effort="1" velocity="20" lower="0" upper="0.040000000000000000833" />
    <joint_properties friction="0.0" />
  </joint>

  <joint name="right_ank_B32" type="fixed">
    <origin xyz="-1.561251128379126385e-17 -0.0064387505004003531273 -1.3877787807814456755e-17" rpy="-1.5707963267948952257 -0.17993145005754265786 3.2634092460731900895e-15" />
    <parent link="ball_joint_ball_4" />
    <child link="12lf_4" />
    <axis xyz="0 0 1" />
    <limit effort="1" velocity="20" lower="-0.785398163397448279" upper="0.785398163397448279" />
    <joint_properties friction="0.0" />
  </joint>

  <joint name="right_ank_B22" type="fixed">
    <origin xyz="0 0 -0.011499999999999992867" rpy="1.5707963267949405228 -1.4285463212677880218 1.5707963267949816011" />
    <parent link="ball_joint_container_4" />
    <child link="ball_joint_ball_4" />
    <axis xyz="0 0 1" />
    <limit effort="1" velocity="20" lower="-0.785398163397448279" upper="0.785398163397448279" />
    <joint_properties friction="0.0" />
  </joint>

  <joint name="right_ank_B12" type="fixed">
    <origin xyz="0.0080000000000000730249 0.015000000000000263123 0.028299999999999901623" rpy="-1.5707963267948388264 -1.4697566621826396727 1.5707963267950122432" />
    <parent link="right_calf_link" />
    <child link="ball_joint_container_4" />
    <axis xyz="0 0 1" />
    <limit effort="1" velocity="20" lower="-0.785398163397448279" upper="0.785398163397448279" />
    <joint_properties friction="0.0" />
  </joint>

  <joint name="right_knee" type="revolute">
    <origin xyz="-1.8318267252532356178e-15 0.095999999999998836264 0.027400000000000895861" rpy="3.1415926535897895633 -1.5829351718147190682e-16 -3.141592653589793116" />
    <parent link="right_hip_pitch_link" />
    <child link="right_calf_link" />
    <axis xyz="0 0 1" />
    <limit effort="1" velocity="20" lower="-1.570796326794896558" upper="1.570796326794896558" />
    <joint_properties friction="0.0" />
  </joint>

  <joint name="right_hip_pitch" type="revolute">
    <origin xyz="-0.024000000716146767388 -0.019000000152456290176 -0.019000000152450020885" rpy="-1.5707963267951789987 1.5707963267947586683 0" />
    <parent link="hip_roll_link_2" />
    <child link="right_hip_pitch_link" />
    <axis xyz="0 0 1" />
    <limit effort="1" velocity="20" lower="-1.570796326794896558" upper="1.570796326794896558" />
    <joint_properties friction="0.0" />
  </joint>

  <joint name="right_hip_roll" type="revolute">
    <origin xyz="-0.018999999999999891975 2.3744804088669454642e-18 -0.025999999999999984929" rpy="-3.3306690738820289997e-16 -1.570796326794896558 0" />
    <parent link="hip_yaw_link_2" />
    <child link="hip_roll_link_2" />
    <axis xyz="0 0 1" />
    <limit effort="1" velocity="20" lower="-1.570796326794896558" upper="1.570796326794896558" />
    <joint_properties friction="0.0" />
  </joint>


  <link name="sho_pitch_link">
    <visual>
      <origin xyz="0 0 0" rpy="0 -0 0" />
      <geometry>
        <mesh filename="../assemblies/left_OP3_arm/meshes/left_sho_pitch_link_visual.stl" />
      </geometry>
      <material name="sho_pitch_link_material">
        <color rgba="0.61568627450980395466 0.81176470588235283277 0.92941176470588238168 1.0" />
      </material>
    </visual>
    <inertial>
      <origin xyz="-3.0491385309620660034e-09 0.0021980515983192187336 -0.008444103477871608282" rpy="0 0 0" />
      <mass value="0.0053168741776095261239" />
      <inertia ixx="8.0042368361712981822e-07" ixy="1.1695537857420344687e-13" ixz="1.0217073922523117438e-14" iyy="1.8515753414330841353e-06" iyz="1.1638006198091636138e-07" izz="1.9553421197543977665e-06" />
    </inertial>
  </link>

  <link name="sho_roll_link">
    <visual>
      <origin xyz="0 0 0" rpy="0 -0 0" />
      <geometry>
        <mesh filename="../assemblies/left_OP3_arm/meshes/left_sho_roll_link_visual.stl" />
      </geometry>
      <material name="sho_roll_link_material">
        <color rgba="0.41316897434350019491 0.53241982866399872876 0.7282853555714716709 1.0" />
      </material>
    </visual>
    <collision>
      <origin xyz="0 0 0" rpy="0 -0 0" />
      <geometry>
        <mesh filename="collisions/left_sho_roll_link_collision.stl" />
      </geometry>
    </collision>
    <inertial>
      <origin xyz="-0.044750001376316579649 -2.239337763454832524e-09 -0.018770420156107039955" rpy="0 0 0" />
      <mass value="0.14104718485994710564" />
      <inertia ixx="2.5744677667987856155e-05" ixy="3.3646118940713395156e-08" ixz="-3.07965309892281766e-12" iyy="0.00018303238190424633738" iyz="-7.985277099945878256e-12" izz="0.00017803089038969846904" />
    </inertial>
  </link>

  <link name="elb_link">
    <visual>
      <origin xyz="0 0 0" rpy="0 -0 0" />
      <geometry>
        <mesh filename="../assemblies/left_OP3_arm/meshes/left_elb_link_visual.stl" />
      </geometry>
      <material name="elb_link_material">
        <color rgba="0.63276333362436720797 0.72211014553089525325 0.77571823267481210262 1.0" />
      </material>
    </visual>
    <collision>
      <origin xyz="0 0 0" rpy="0 -0 0" />
      <geometry>
        <mesh filename="collisions/left_elb_link_collision.stl" />
      </geometry>
    </collision>
    <inertial>
      <origin xyz="0.0035809919318981055063 0.051692930824585210658 0.018999999639624204351" rpy="0 0 0" />
      <mass value="0.012147845014428806237" />
      <inertia ixx="1.0275070466017931166e-05" ixy="-8.3735105743537793912e-07" ixz="2.455524880843544543e-13" iyy="3.0584432934239912786e-06" iyz="2.6984977473475175842e-14" izz="8.4465004716585817264e-06" />
    </inertial>
  </link>

  <joint name="left_elb" type="revolute">
    <origin xyz="-0.089499999999999663158 -3.2265856653168611956e-16 5.9049987122250513494e-15" rpy="3.1415926535897367167 2.2793048768987009608e-14 -1.5707963267948858999" />
    <parent link="sho_roll_link" />
    <child link="elb_link" />
    <axis xyz="0 0 1" />
    <limit effort="1" velocity="20" lower="-1.570796326794896558" upper="1.570796326794896558" />
    <joint_properties friction="0.0" />
  </joint>

  <joint name="left_sho_roll" type="revolute">
    <origin xyz="-0.018999999999999999528 0.0089999999999999646255 -0.027499999999999986261" rpy="-6.3254956828146051492e-14 -1.5707963267948947816 0" />
    <parent link="sho_pitch_link" />
    <child link="sho_roll_link" />
    <axis xyz="0 0 1" />
    <limit effort="1" velocity="20" lower="-1.570796326794896558" upper="1.570796326794896558" />
    <joint_properties friction="0.0" />
  </joint>


  <link name="sho_pitch_link_2">
    <visual>
      <origin xyz="0 0 0" rpy="0 -0 0" />
      <geometry>
        <mesh filename="../assemblies/right_OP3_arm/meshes/right_sho_pitch_link_visual.stl" />
      </geometry>
      <material name="sho_pitch_link_material">
        <color rgba="0.61568627450980395466 0.81176470588235283277 0.92941176470588238168 1.0" />
      </material>
    </visual>
    <inertial>
      <origin xyz="-3.0491385338904537031e-09 0.0021980515983192261062 -0.0084441034778715822612" rpy="0 0 0" />
      <mass value="0.0053168741776095261239" />
      <inertia ixx="8.0042368361712706536e-07" ixy="1.1695537504103055586e-13" ixz="1.0217073767473516258e-14" iyy="1.8515753414330769355e-06" iyz="1.1638006198091067038e-07" izz="1.9553421197543842139e-06" />
    </inertial>
  </link>

  <link name="sho_roll_link_2">
    <visual>
      <origin xyz="0 0 0" rpy="0 -0 0" />
      <geometry>
        <mesh filename="../assemblies/right_OP3_arm/meshes/right_sho_roll_link_visual.stl" />
      </geometry>
      <material name="sho_roll_link_material">
        <color rgba="0.41316897434350025042 0.53241982866399861773 0.72828535557147189294 1.0" />
      </material>
    </visual>
    <collision>
      <origin xyz="0 0 0" rpy="0 -0 0" />
      <geometry>
        <mesh filename="collisions/right_sho_roll_link_collision.stl" />
      </geometry>
    </collision>
    <inertial>
      <origin xyz="-0.044750001376316621282 -2.2393423855571851573e-09 -0.018770420156104725834" rpy="0 0 0" />
      <mass value="0.14104718485994710564" />
      <inertia ixx="2.5744677667987917141e-05" ixy="3.3646118925509001552e-08" ixz="-3.0796450647143969183e-12" iyy="0.0001830323819042464458" iyz="-7.9852776609896073213e-12" izz="0.00017803089038969863167" />
    </inertial>
  </link>

  <link name="elb_link_2">
    <visual>
      <origin xyz="0 0 0" rpy="0 -0 0" />
      <geometry>
        <mesh filename="../assemblies/right_OP3_arm/meshes/right_elb_link_visual.stl" />
      </geometry>
      <material name="elb_link_material">
        <color rgba="0.63276333362436720797 0.72211014553089525325 0.77571823267481210262 1.0" />
      </material>
    </visual>
    <collision>
      <origin xyz="0 0 0" rpy="0 -0 0" />
      <geometry>
        <mesh filename="collisions/right_elb_link_collision.stl" />
      </geometry>
    </collision>
    <inertial>
      <origin xyz="0.0035809919318979602232 -0.051692930824585016369 0.019000000360375912667" rpy="0 0 0" />
      <mass value="0.012147845014428806237" />
      <inertia ixx="1.0275070466017683832e-05" ixy="8.3735105743541414978e-07" ixz="-2.4555242187884462621e-13" iyy="3.0584432934239362214e-06" iyz="2.6985065806980363975e-14" izz="8.4465004716583801325e-06" />
    </inertial>
  </link>

  <joint name="right_elb" type="revolute">
    <origin xyz="-0.08949999999999827538 -7.2650219173908681114e-15 1.0956513474269513608e-14" rpy="-3.1415926535897145122 9.187667647645342109e-14 1.5707963267949796027" />
    <parent link="sho_roll_link_2" />
    <child link="elb_link_2" />
    <axis xyz="0 0 1" />
    <limit effort="1" velocity="20" lower="-1.570796326794896558" upper="1.570796326794896558" />
    <joint_properties friction="0.0" />
  </joint>

  <joint name="right_sho_roll" type="revolute">
    <origin xyz="0.018999999999999954425 0.0089999999999999576866 -0.027499999999999899525" rpy="-3.1415926535896976368 -1.5707963267948958919 0" />
    <parent link="sho_pitch_link_2" />
    <child link="sho_roll_link_2" />
    <axis xyz="0 0 1" />
    <limit effort="1" velocity="20" lower="-1.570796326794896558" upper="1.570796326794896558" />
    <joint_properties friction="0.0" />
  </joint>


</robot>
